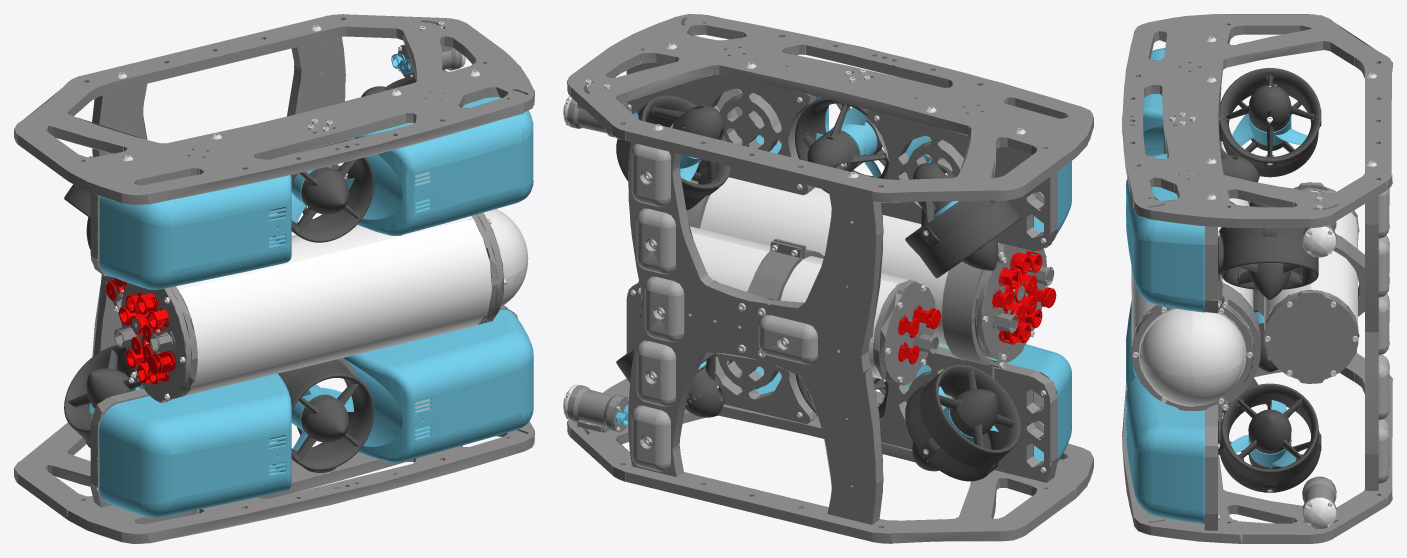
Rendered from bluerov2.glb.
3 renders of one model, left to right at view 1: azimuth 30°, elevation 25°; view 2: azimuth 150°, elevation 25°; view 3: azimuth 270°, elevation 25°, orthographic. The views are drawn at different scales.
Parts seen in each view (by area): view 1: g00_025_025_025; view 2: g00_025_025_025; view 3: g00_025_025_025.
Boxes of the visible parts, x1,y1,x2,y2 form: g00_025_025_025: [14, 14, 534, 543]; g00_025_025_025: [563, 14, 1093, 543]; g00_025_025_025: [1122, 14, 1392, 543].
Bounding box in the file's own units: 0.4576 × 0.3442 × 0.2552.
